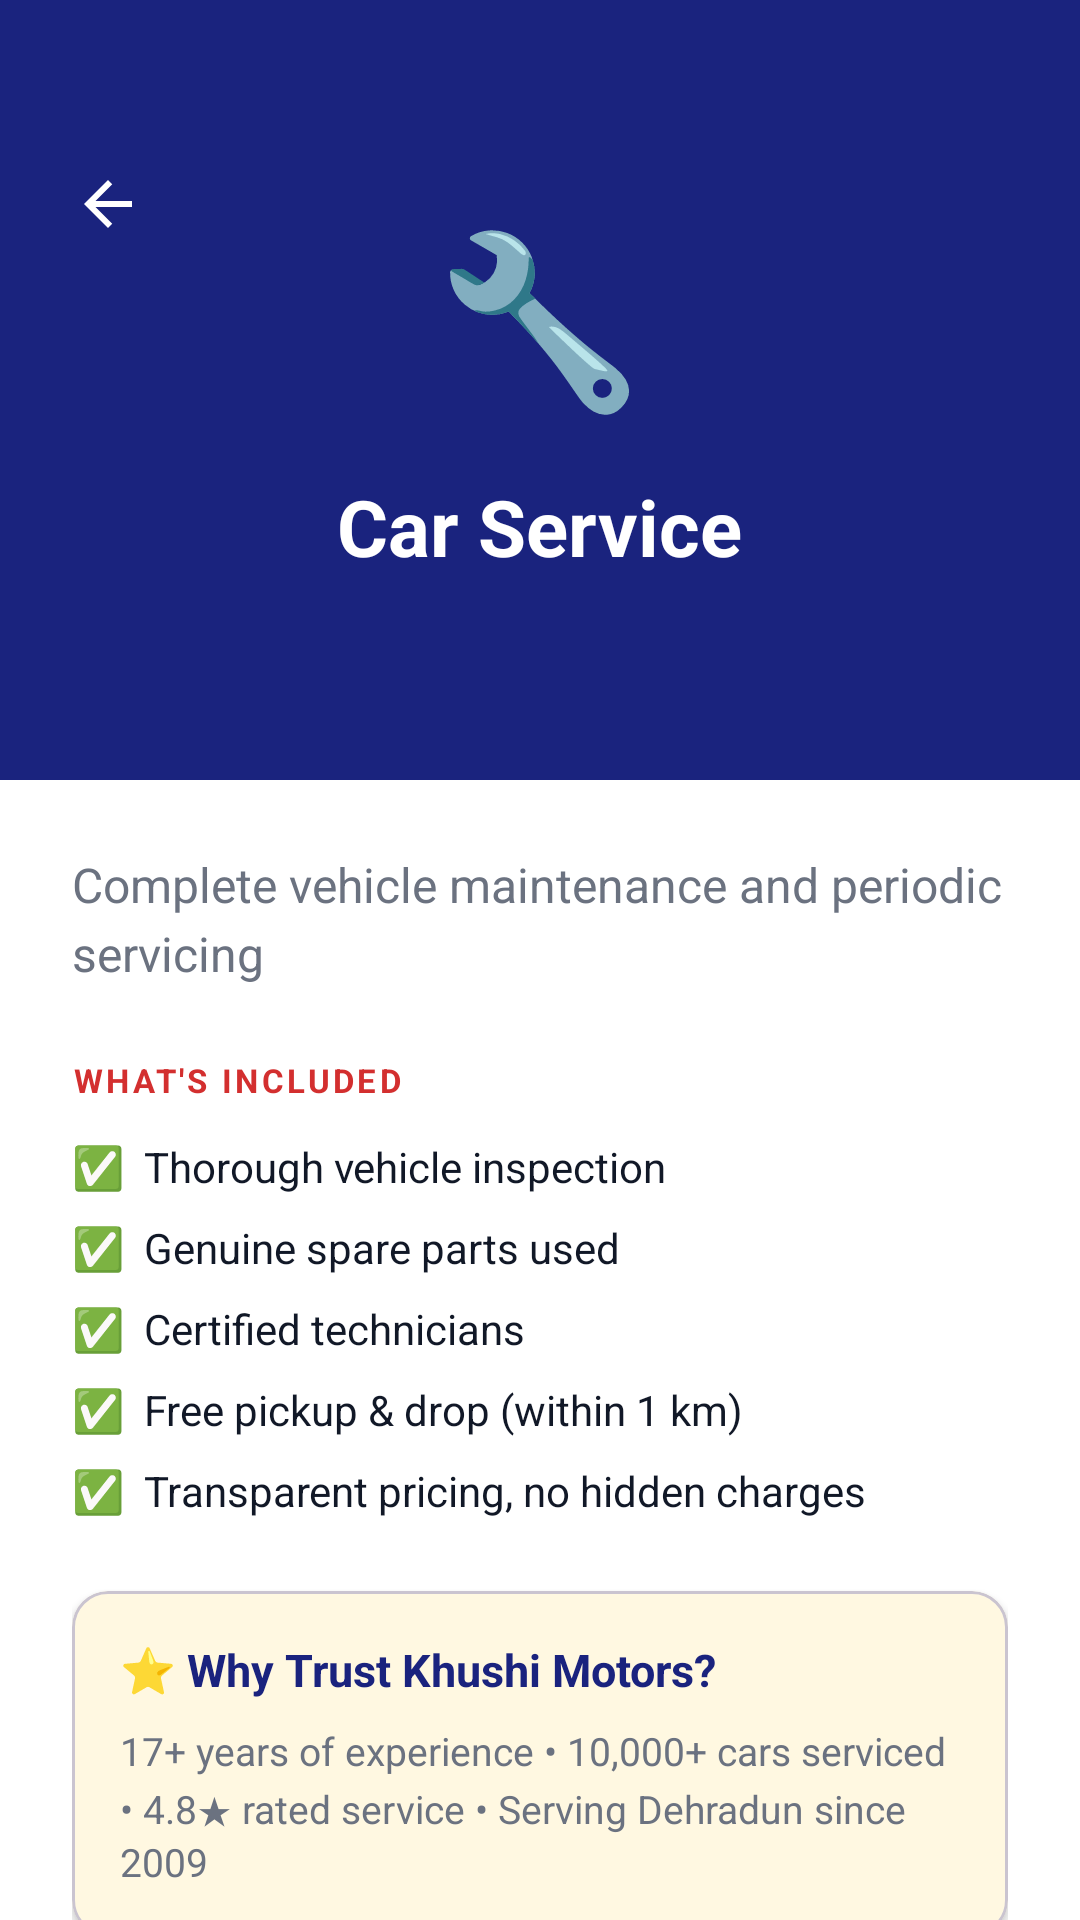

Screen size 1080×1920. Icon name, then its center in pixels as (x,y):
back: (108,204)
